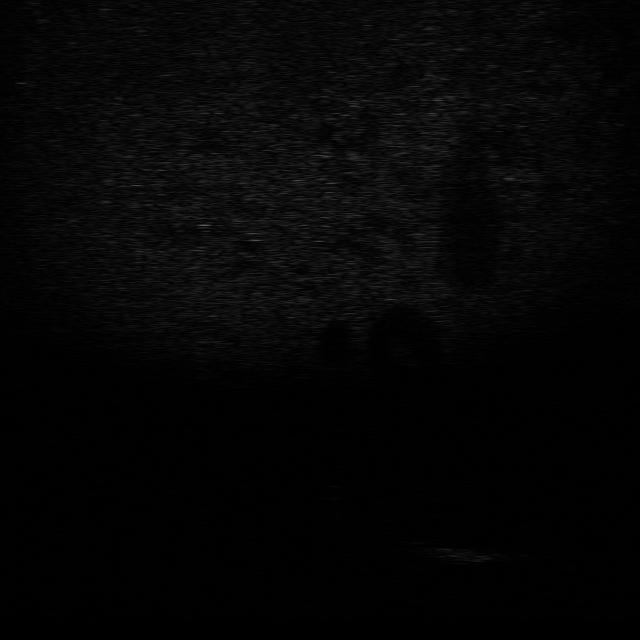ball: (312, 480, 352, 506)
metal bucket: (427, 539, 515, 568)
tyre: (370, 514, 440, 546)
